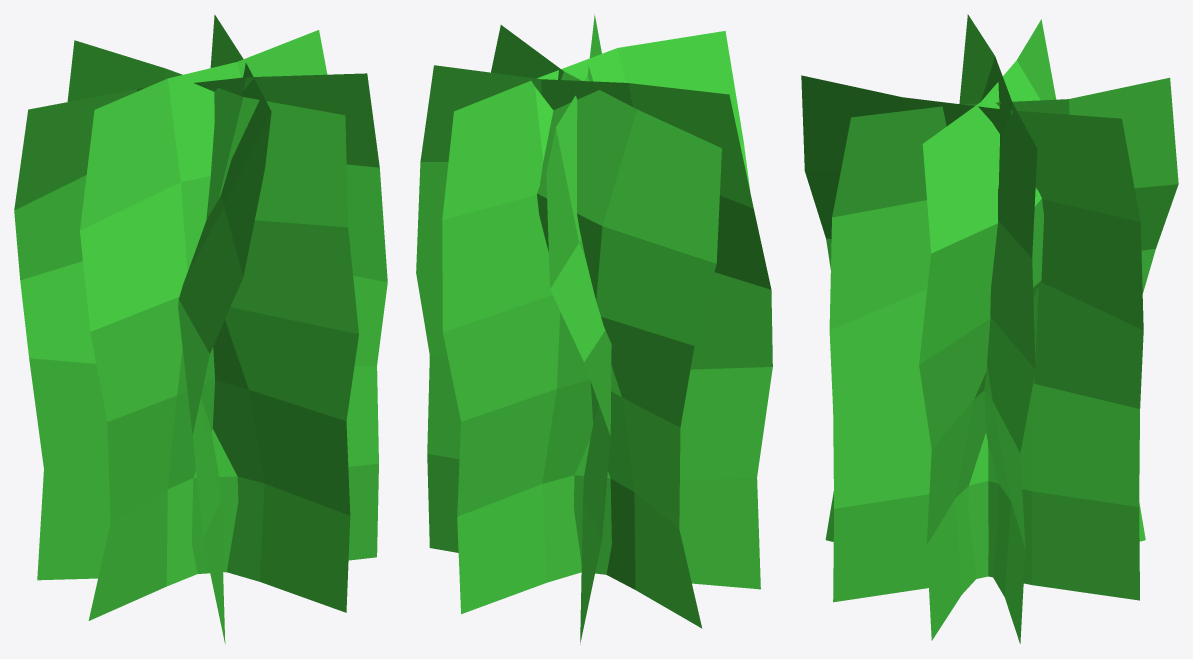
File: Plant1.fbx
3 renders of one model, left to right at view 1: azimuth 30°, elevation 25°; view 2: azimuth 150°, elevation 25°; view 3: azimuth 270°, elevation 25°, orthographic.
Visible parts, largest first — view 1: Plane.002; view 2: Plane.002; view 3: Plane.002.
Part boxes in pixels (<box>): Plane.002: <box>14,14,387,643</box>; Plane.002: <box>416,14,772,644</box>; Plane.002: <box>801,14,1178,643</box>.
Size of the model in its own units: 0.8106 by 1.24 by 0.8499.
